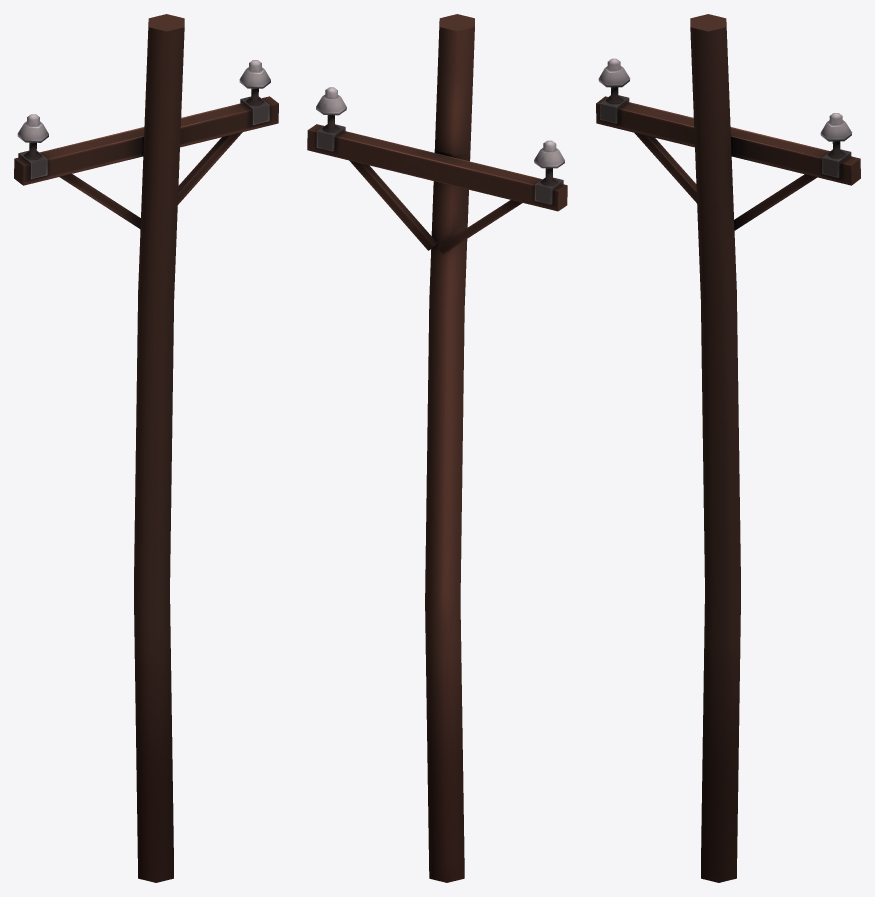
Rendered from Electric_Pole_01.FBX.
3 renders of one model, left to right at view 1: azimuth 30°, elevation 25°; view 2: azimuth 150°, elevation 25°; view 3: azimuth 330°, elevation 25°, orthographic.
Parts seen in each view (by area): view 1: Electric_Pole_01; view 2: Electric_Pole_01; view 3: Electric_Pole_01.
Part boxes in pixels (bbox=[...]): Electric_Pole_01: bbox=[14, 14, 278, 882]; Electric_Pole_01: bbox=[307, 14, 567, 882]; Electric_Pole_01: bbox=[596, 14, 860, 882].
Size of the model in its own units: 50.03 by 161 by 12.42.
